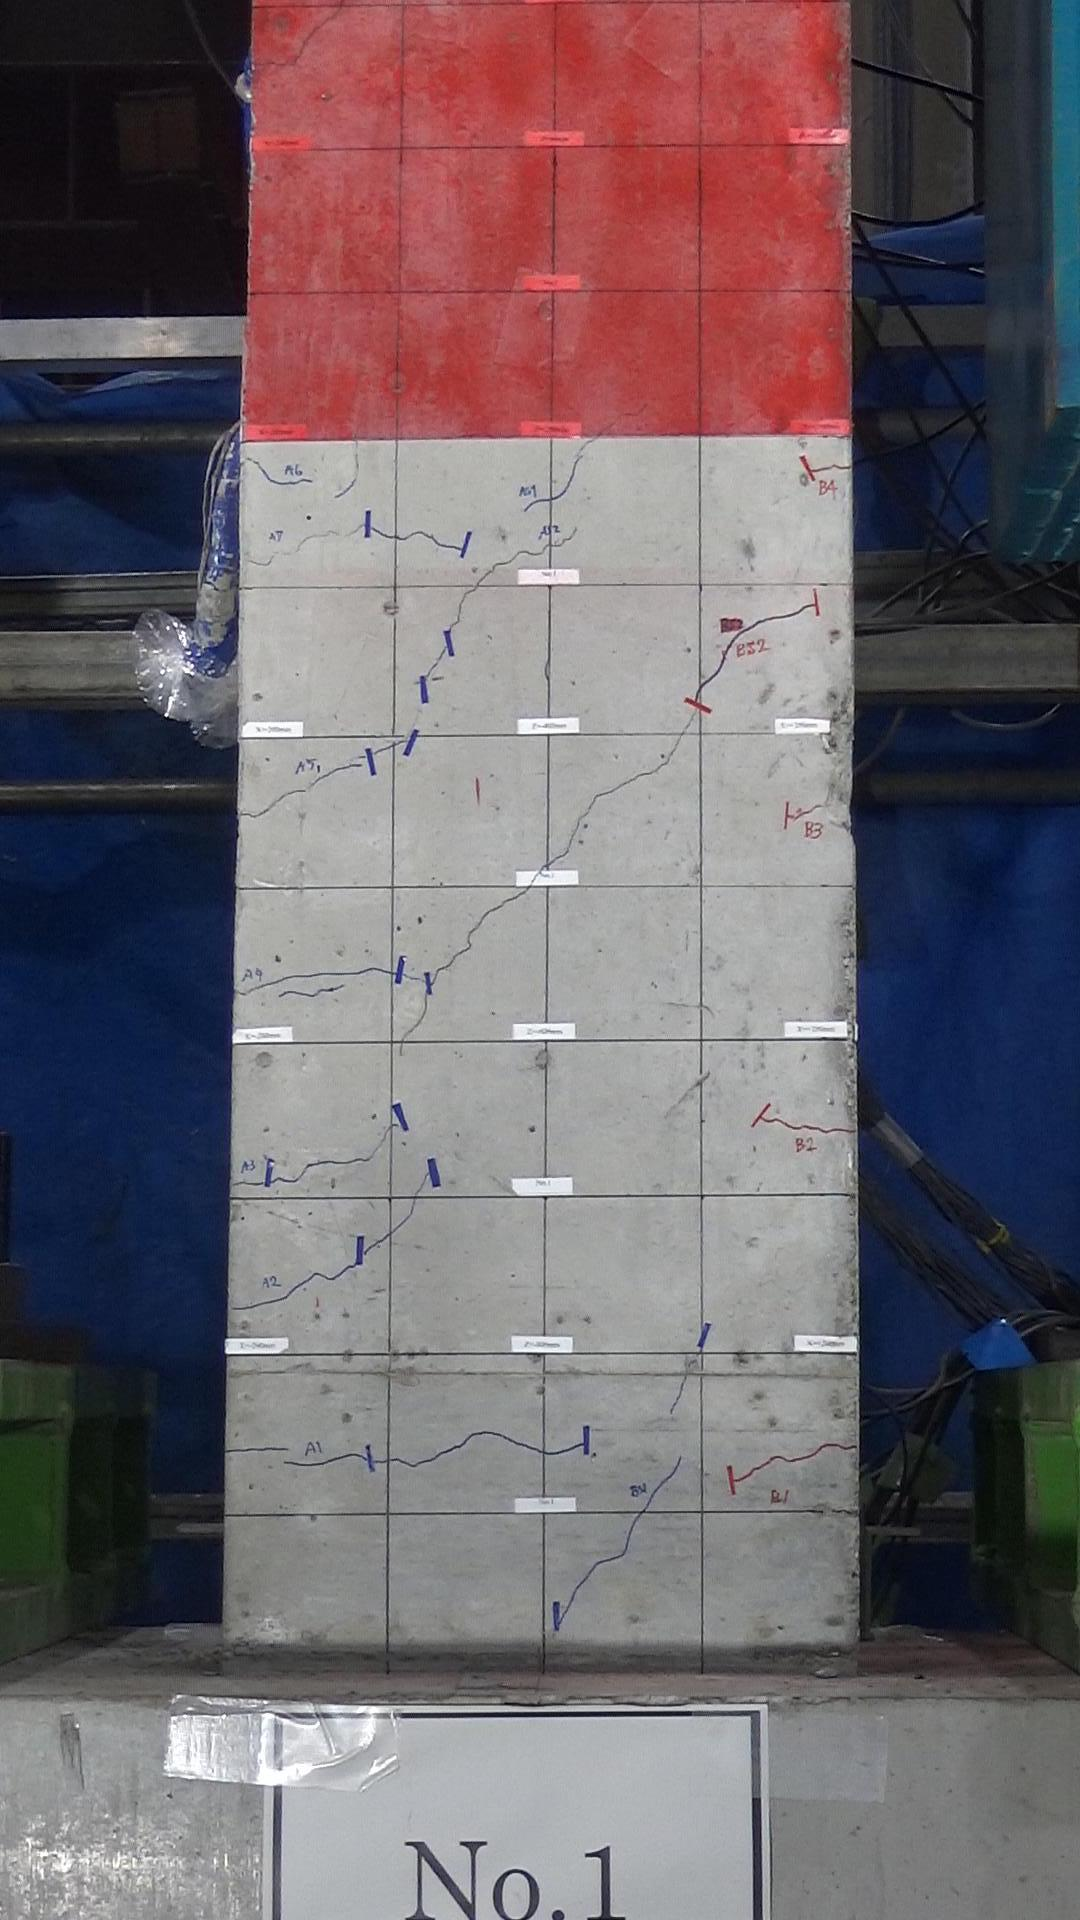Flexure Crack: (225, 1443, 290, 1458), (243, 454, 276, 484), (771, 1443, 815, 1465), (806, 1121, 855, 1139), (764, 1114, 806, 1135), (371, 524, 411, 545), (735, 1458, 771, 1481), (430, 535, 468, 556), (274, 1453, 318, 1472), (459, 1431, 501, 1449), (785, 800, 828, 818), (297, 527, 343, 543), (404, 527, 443, 546), (303, 767, 342, 786), (269, 473, 313, 489), (818, 1437, 857, 1455), (500, 1429, 527, 1451), (233, 1298, 269, 1313), (240, 804, 274, 820), (372, 741, 406, 757), (272, 972, 323, 982), (320, 968, 361, 981), (808, 462, 851, 473), (363, 967, 397, 981), (560, 1439, 589, 1456), (290, 1275, 316, 1294), (338, 1154, 371, 1168), (530, 1445, 566, 1458), (335, 1261, 360, 1279), (334, 525, 368, 538), (280, 988, 314, 1001), (313, 984, 345, 997), (319, 1453, 352, 1466), (232, 984, 272, 994), (274, 789, 309, 800), (235, 1178, 266, 1189), (248, 554, 273, 568), (338, 758, 363, 773), (301, 1160, 334, 1171), (401, 1458, 430, 1470), (274, 1174, 298, 1187), (433, 1447, 458, 1458), (269, 1292, 291, 1305), (268, 549, 303, 556), (371, 1457, 401, 1466), (320, 1270, 338, 1283), (349, 1452, 367, 1464)
Shear Crack: (770, 605, 816, 622), (396, 1025, 419, 1058), (537, 539, 575, 559), (683, 700, 703, 737), (584, 789, 616, 811), (526, 495, 556, 517), (365, 1233, 390, 1259), (444, 945, 472, 969), (646, 758, 671, 783), (567, 446, 585, 479), (671, 1379, 687, 1418), (560, 1590, 578, 1625), (574, 1568, 595, 1596), (591, 1555, 624, 1572), (695, 673, 713, 703), (465, 574, 491, 595), (612, 773, 645, 789), (732, 615, 771, 628), (410, 1174, 433, 1196), (712, 649, 728, 680), (425, 655, 442, 684), (558, 473, 575, 502), (371, 1131, 390, 1156), (463, 920, 483, 945), (390, 1215, 414, 1234), (514, 545, 539, 563), (538, 853, 567, 869), (479, 906, 502, 924), (624, 1520, 637, 1553), (670, 732, 687, 757), (667, 1455, 683, 1481), (406, 1196, 425, 1218), (505, 891, 527, 909), (570, 811, 589, 829), (563, 832, 579, 855), (456, 592, 471, 616), (448, 615, 462, 640), (637, 1499, 653, 1519), (491, 560, 512, 575), (419, 997, 430, 1025), (727, 634, 741, 653), (657, 1477, 670, 1494), (434, 964, 444, 985)
